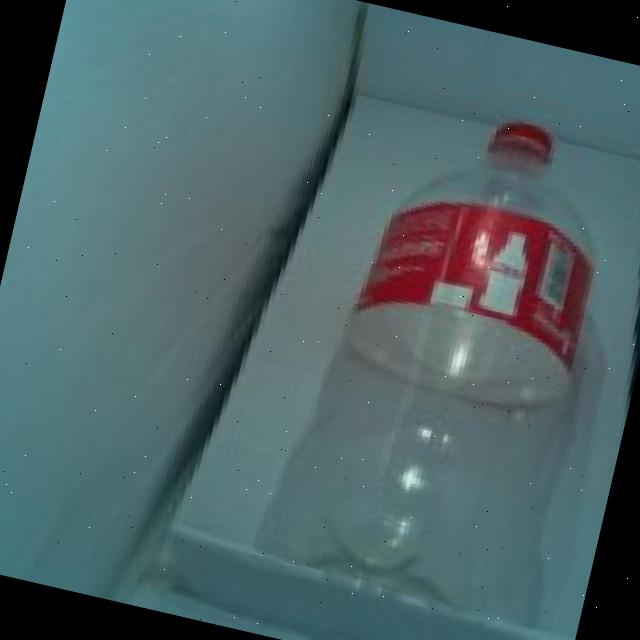trash: (238, 54, 640, 626)
